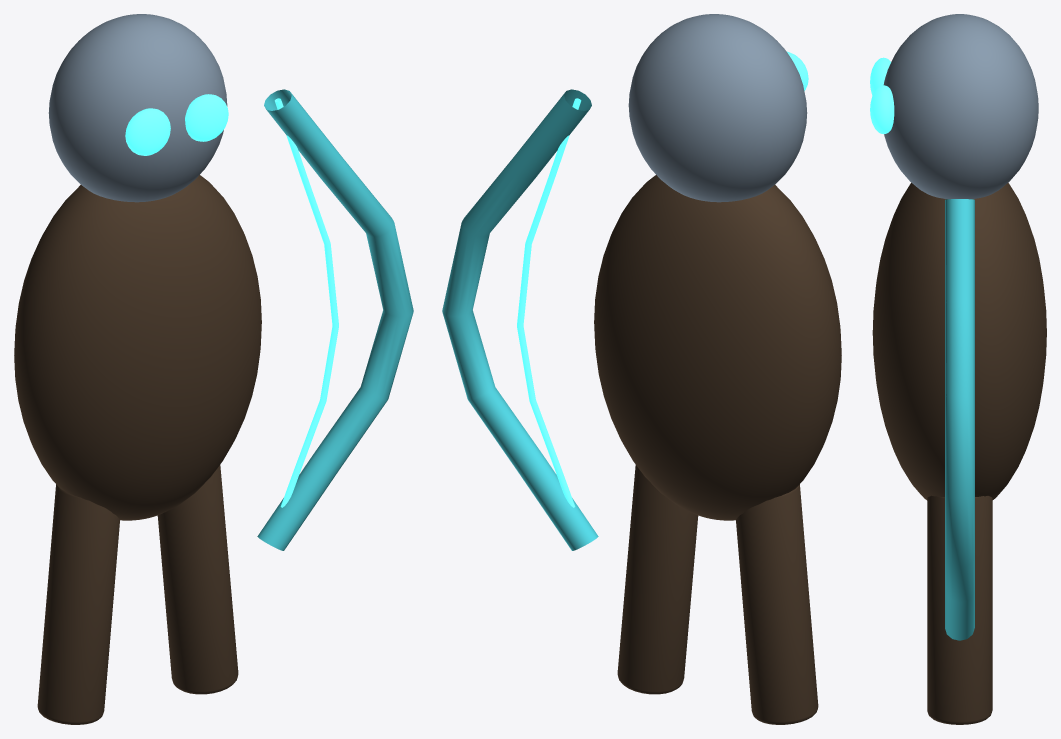
Rendered from humanoid_v7.glb.
The picture shows the model from 3 angles, left to right: view 1: azimuth 30°, elevation 25°; view 2: azimuth 150°, elevation 25°; view 3: azimuth 270°, elevation 25°; orthographic projection. The views are drawn at different scales.
Visible parts, largest first — view 1: ARCHER_TORSO_SECONDARY, ARCHER_HEAD_PRIMARY, ARCHER_BOW_ACCENT, ARCHER_LEG_SECONDARY, ARCHER_LEG_SECONDARY.001, ARCHER_STRING_EMISSIVE, EYE_EMISSIVE, EYE_EMISSIVE.001; view 2: ARCHER_TORSO_SECONDARY, ARCHER_HEAD_PRIMARY, ARCHER_BOW_ACCENT, ARCHER_LEG_SECONDARY, ARCHER_LEG_SECONDARY.001, ARCHER_STRING_EMISSIVE; view 3: ARCHER_TORSO_SECONDARY, ARCHER_HEAD_PRIMARY, ARCHER_BOW_ACCENT, ARCHER_LEG_SECONDARY.001, EYE_EMISSIVE.001, EYE_EMISSIVE.
Boxes of the visible parts, box(x1,y1,x2,y2) form: ARCHER_TORSO_SECONDARY: box(14, 175, 261, 520); ARCHER_HEAD_PRIMARY: box(48, 14, 227, 202); ARCHER_BOW_ACCENT: box(257, 89, 413, 550); ARCHER_LEG_SECONDARY: box(37, 484, 119, 724); ARCHER_LEG_SECONDARY.001: box(157, 465, 238, 694); ARCHER_STRING_EMISSIVE: box(274, 98, 338, 507); EYE_EMISSIVE: box(125, 108, 170, 155); EYE_EMISSIVE.001: box(185, 94, 228, 141); ARCHER_TORSO_SECONDARY: box(594, 175, 841, 520); ARCHER_HEAD_PRIMARY: box(628, 14, 807, 202); ARCHER_BOW_ACCENT: box(442, 89, 598, 550); ARCHER_LEG_SECONDARY: box(736, 484, 818, 724); ARCHER_LEG_SECONDARY.001: box(617, 465, 698, 694); ARCHER_STRING_EMISSIVE: box(517, 98, 581, 507); ARCHER_TORSO_SECONDARY: box(872, 182, 1046, 500); ARCHER_HEAD_PRIMARY: box(883, 14, 1038, 199); ARCHER_BOW_ACCENT: box(945, 199, 974, 640); ARCHER_LEG_SECONDARY.001: box(927, 495, 992, 724); EYE_EMISSIVE.001: box(870, 85, 894, 134); EYE_EMISSIVE: box(870, 57, 891, 95).
Bounding box in the file's own units: 1.61 × 2.69 × 0.65.
